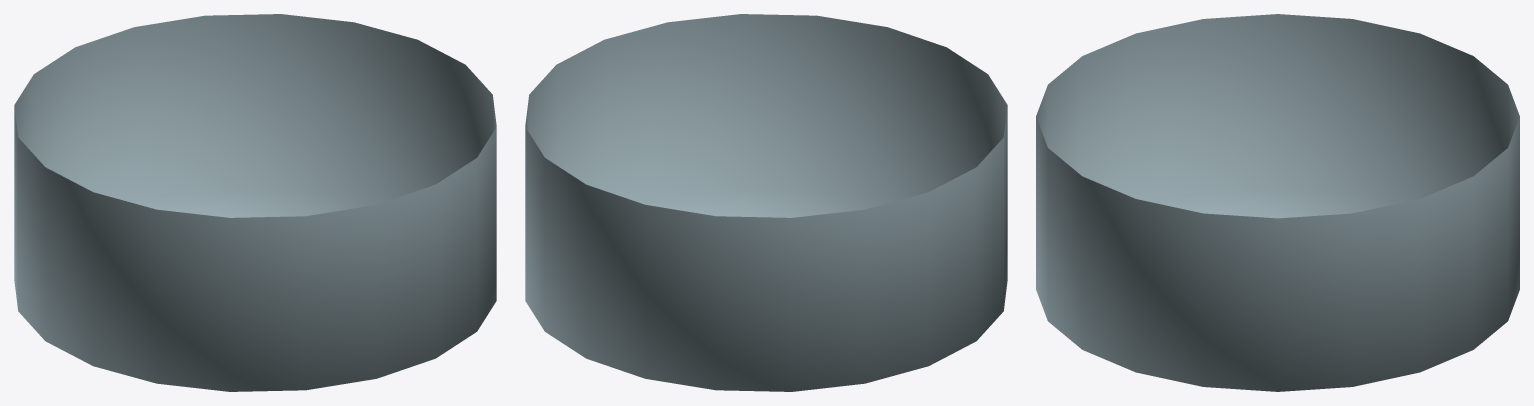
The model's file is background_mesh.fbx.
3 views of the same model, side by side, from view 1: azimuth 30°, elevation 25°; view 2: azimuth 150°, elevation 25°; view 3: azimuth 270°, elevation 25° (orthographic).
Parts seen in each view (by area): view 1: background; view 2: background; view 3: background.
Part boxes in pixels (x1=…): background: x1=14, y1=14, x2=496, y2=391; background: x1=525, y1=14, x2=1007, y2=391; background: x1=1036, y1=14, x2=1519, y2=391.
Bounding box in the file's own units: 2989 × 1183 × 2989.
